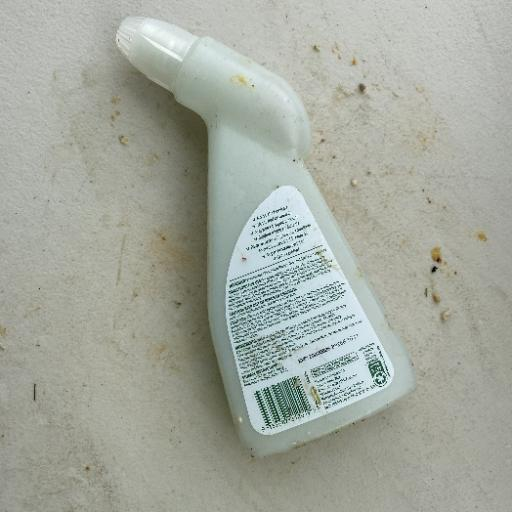Plastic: (112, 14, 420, 459)
